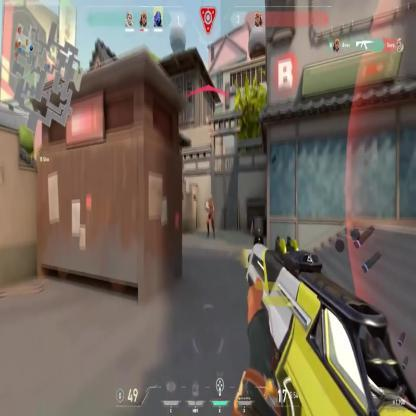enemy: (204, 195, 214, 238)
enemy_head: (209, 196, 212, 204)
